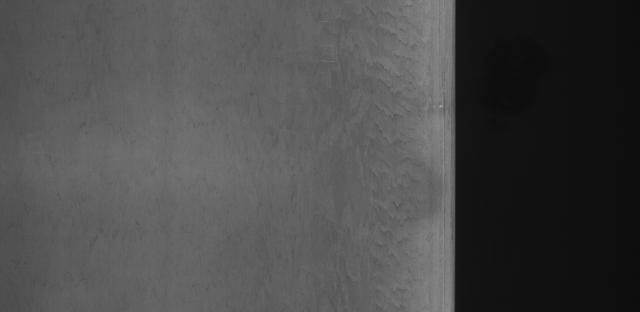silk_spot: (322, 38, 430, 264)
